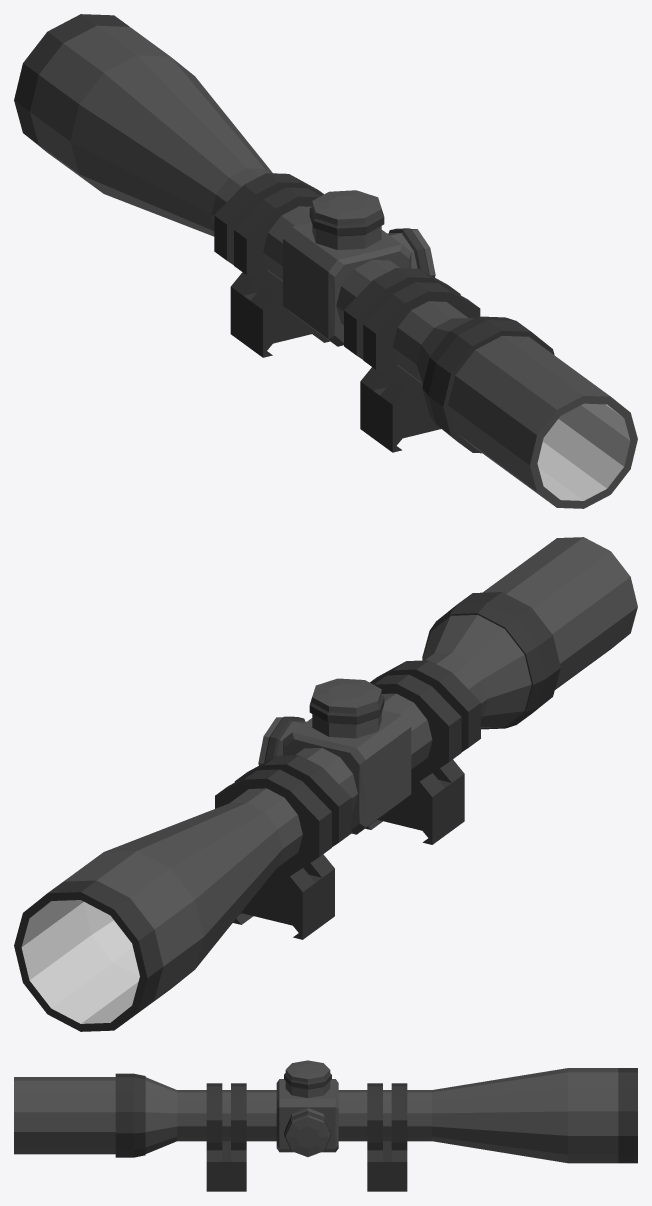
The model's file is optic_02.fbx.
3 views of the same model, one above another, from view 1: azimuth 30°, elevation 25°; view 2: azimuth 150°, elevation 25°; view 3: azimuth 270°, elevation 25° (orthographic). The views are drawn at different scales.
Visible parts, largest first — view 1: Black_LR_Scope_01, Rings; view 2: Black_LR_Scope_01, Rings; view 3: Black_LR_Scope_01, Rings.
Part boxes in pixels (x1,y1,x2,y2): Black_LR_Scope_01: (14, 14, 637, 508); Rings: (214, 173, 480, 452); Black_LR_Scope_01: (14, 537, 637, 1031); Rings: (215, 660, 480, 939); Black_LR_Scope_01: (14, 1060, 637, 1163); Rings: (206, 1083, 407, 1191).
Size of the model in its own units: 110 by 137 by 693.
